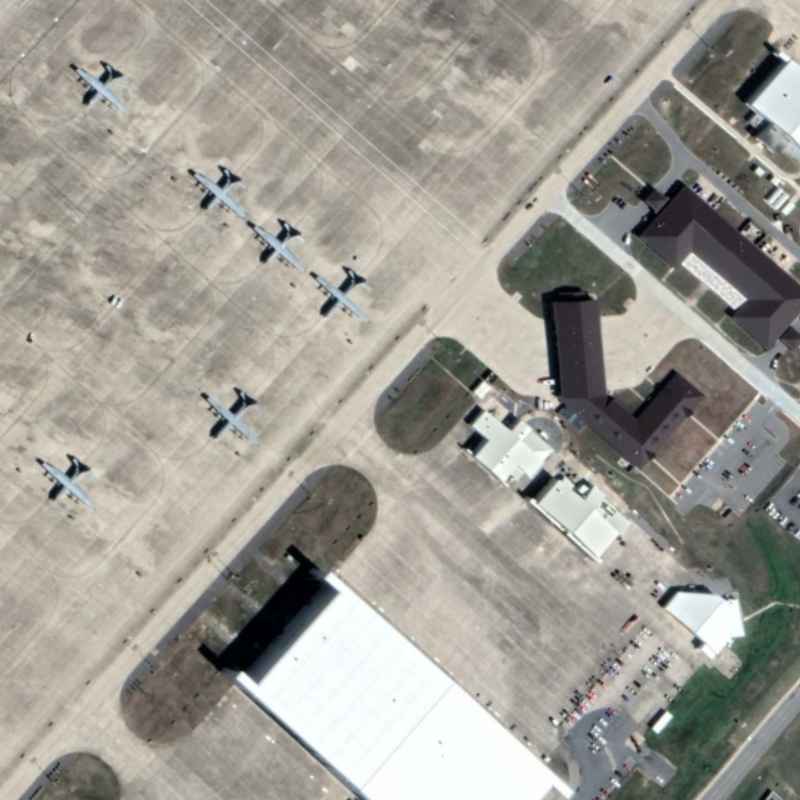A2: (306, 263, 374, 328), (201, 385, 264, 448), (247, 215, 309, 274), (35, 451, 99, 508), (189, 164, 250, 220), (73, 58, 131, 116)
